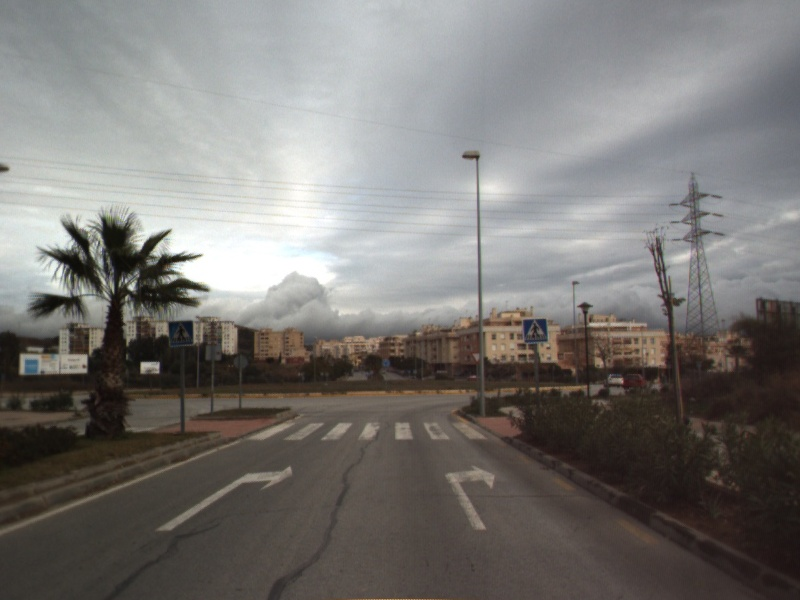RIGHT: (154, 463, 294, 533), (443, 463, 497, 532)
